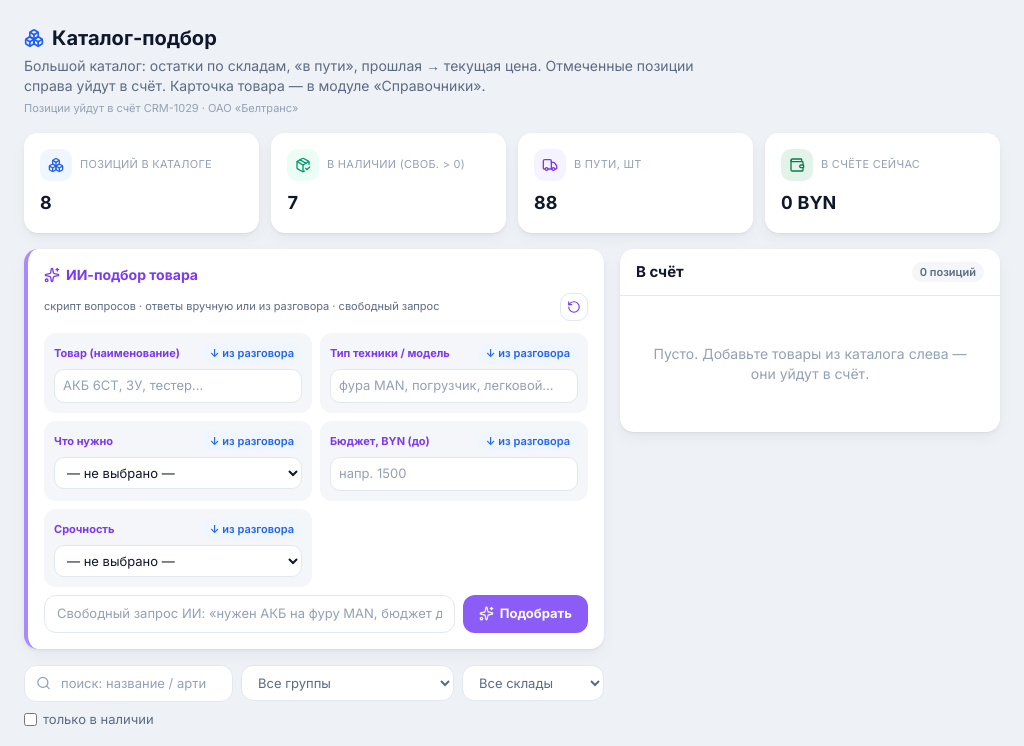
it: CatalogPicker › поиск сужает каталог, добавление в счёт наполняет корзину и итог
# сузим до одной карточки — так «В счёт» будет единственной кнопкой товара
Type "6СТ-77" into the search field with placeholder "поиск: название / артикул / штрихкод" at (128, 683), box x1=24 y1=664 x2=233 y2=702
(page scrolled)
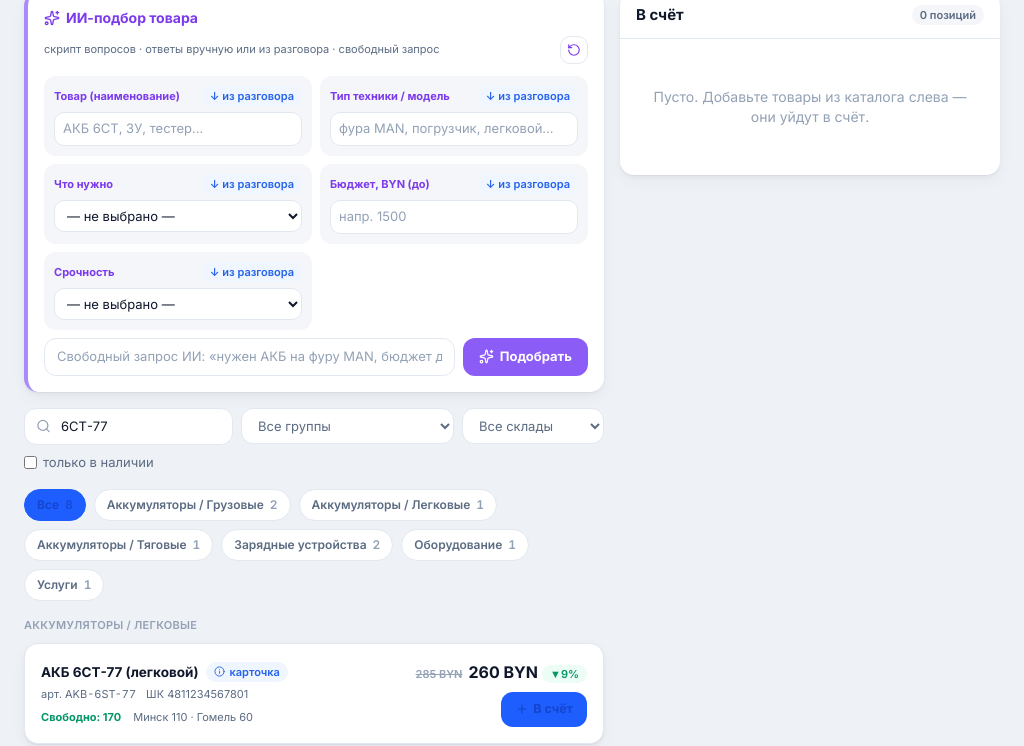
Expected: the text "АКБ 6СТ-77 (легковой)" is shown, x1=41 y1=662 x2=198 y2=682
Click the button "В счёт" at (544, 709), box x1=501 y1=692 x2=587 y2=727
(page scrolled)
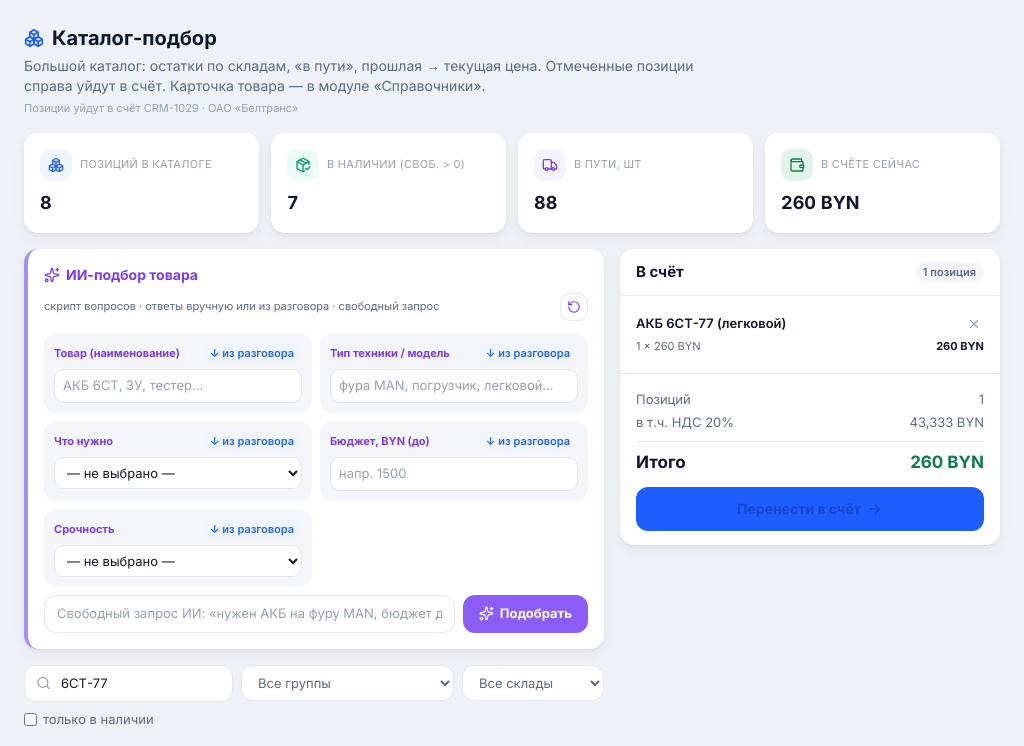
Expected: the text "Пусто. Добавьте товары" is gone
Expected: the text "Итого" is shown, x1=636 y1=450 x2=686 y2=475
Expected: the text "260 BYN" below "В счёте сейчас" is shown, x1=781 y1=192 x2=860 y2=212
